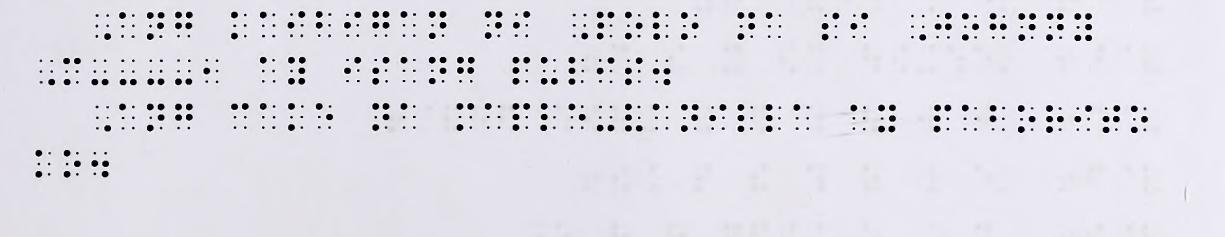A: (119, 11, 135, 38), (119, 103, 135, 130)
J: (934, 12, 952, 39)
M: (63, 57, 81, 86)
P: (597, 11, 615, 40)
a: (652, 103, 669, 130), (400, 102, 416, 130), (765, 12, 782, 38), (793, 104, 810, 130), (260, 11, 276, 38), (850, 104, 866, 131), (400, 11, 416, 37), (400, 57, 416, 83), (260, 103, 276, 129), (485, 103, 501, 129), (962, 104, 977, 131), (260, 57, 275, 83)
b: (989, 105, 1005, 131), (316, 11, 331, 37)
c: (231, 103, 249, 129)
capital: (94, 14, 111, 40), (572, 13, 588, 40), (95, 105, 111, 132), (39, 59, 55, 85), (911, 14, 926, 41)
e: (568, 103, 586, 130), (316, 103, 333, 129)
g: (175, 11, 193, 38), (457, 56, 475, 83), (175, 103, 193, 130), (372, 11, 390, 37)
h: (989, 13, 1007, 39)
i: (596, 57, 615, 84), (850, 12, 868, 39), (709, 104, 727, 130), (1074, 105, 1092, 131), (288, 11, 305, 38), (513, 11, 530, 38), (344, 11, 361, 37), (344, 57, 361, 83)
k: (231, 11, 247, 40), (288, 103, 304, 131), (35, 150, 51, 178)
l: (653, 10, 669, 40), (540, 103, 556, 132), (568, 57, 584, 85), (737, 104, 753, 132), (765, 104, 781, 132)
m: (456, 103, 474, 131)
n: (147, 11, 165, 40), (147, 103, 165, 132), (429, 11, 447, 39), (737, 12, 755, 40), (1018, 13, 1036, 41), (1046, 13, 1064, 41), (372, 103, 390, 131), (429, 56, 446, 85), (485, 11, 502, 39), (681, 104, 698, 132)
o: (625, 11, 643, 40), (681, 12, 699, 40), (1018, 105, 1036, 133), (63, 150, 81, 178), (962, 13, 979, 41), (1131, 105, 1148, 133)
p: (512, 57, 530, 85), (512, 103, 530, 131), (933, 104, 951, 132)
r: (1046, 105, 1064, 133)
s: (821, 12, 839, 41), (372, 57, 390, 85), (625, 57, 643, 85)
t: (1102, 105, 1120, 133)
u: (541, 57, 558, 85)
v: (625, 103, 643, 132)
y: (878, 104, 896, 133), (1074, 13, 1092, 41), (288, 57, 305, 85)
